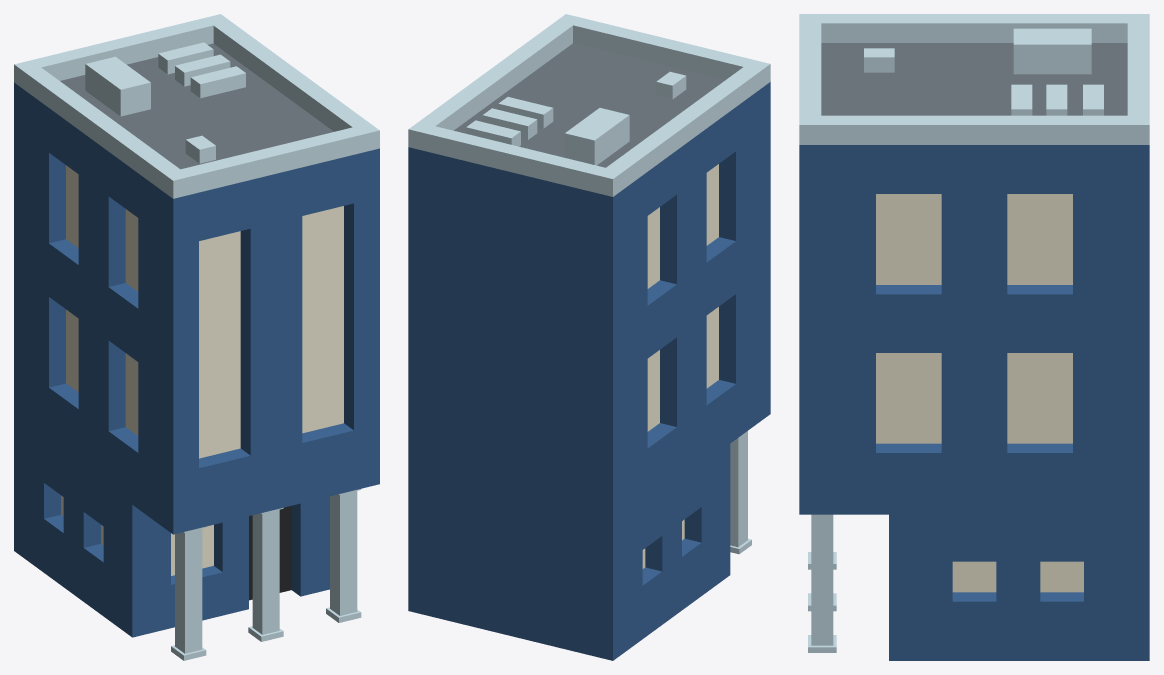
The model's file is Building_9_Extra (Blue).obj.
3 views of the same model, side by side, from view 1: azimuth 30°, elevation 25°; view 2: azimuth 150°, elevation 25°; view 3: azimuth 270°, elevation 25° (orthographic). The views are drawn at different scales.
Parts seen in each view (by area): view 1: Building_9_Extra_(Blue); view 2: Building_9_Extra_(Blue); view 3: Building_9_Extra_(Blue).
Boxes of the visible parts, left/top/right/bottom form: Building_9_Extra_(Blue): left=14, top=14, right=379, bottom=660; Building_9_Extra_(Blue): left=408, top=14, right=770, bottom=660; Building_9_Extra_(Blue): left=799, top=14, right=1149, bottom=660.
Bounding box in the file's own units: 1.2 × 2.75 × 1.6.
